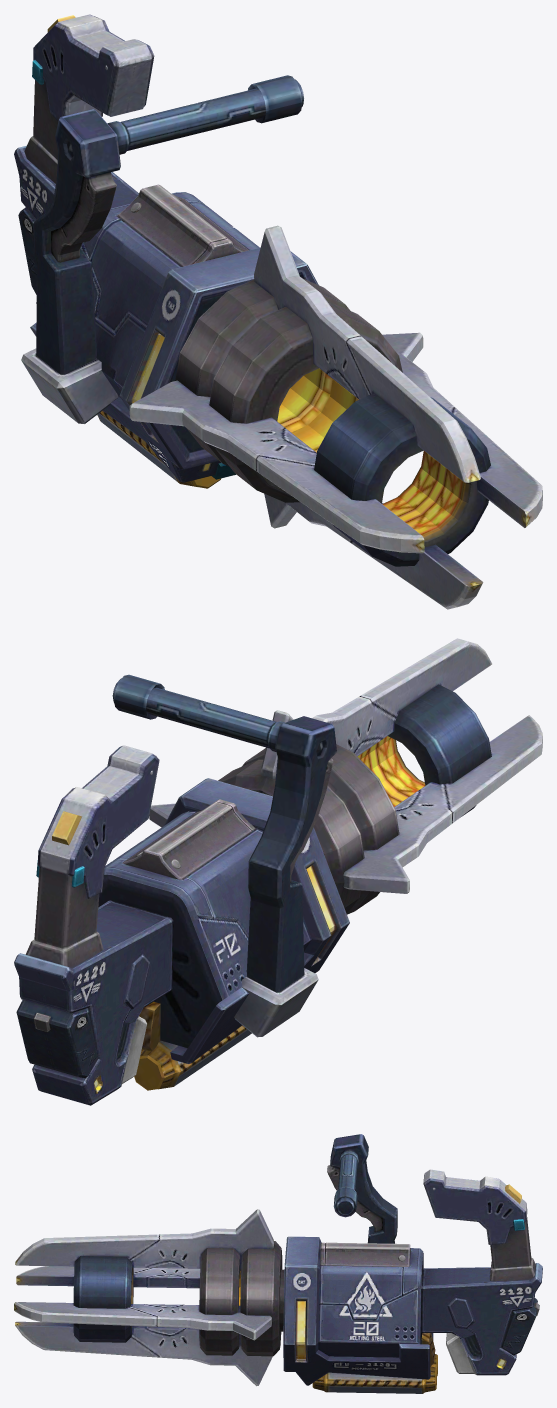
The model's file is chg_laser_machine_gun.glb.
The picture shows the model from 3 angles, top to bottom: view 1: azimuth 30°, elevation 25°; view 2: azimuth 150°, elevation 25°; view 3: azimuth 270°, elevation 25°; orthographic projection. The views are drawn at different scales.
Parts seen in each view (by area): view 1: LaserMchGun_Barrel_2, LaserMchGun_Main_4, LaserMchGun_Trigger_6, LaserMchGun_Handle_5, LaserMchGun_Idk_3; view 2: LaserMchGun_Main_4, LaserMchGun_Barrel_2, LaserMchGun_Trigger_6, LaserMchGun_Handle_5, LaserMchGun_Idk_3; view 3: LaserMchGun_Barrel_2, LaserMchGun_Main_4, LaserMchGun_Handle_5, LaserMchGun_Trigger_6, LaserMchGun_Idk_3.
Boxes of the visible parts, left/top/right/bottom form: LaserMchGun_Barrel_2: left=129, top=225, right=542, bottom=609; LaserMchGun_Main_4: left=14, top=145, right=318, bottom=482; LaserMchGun_Trigger_6: left=21, top=75, right=303, bottom=423; LaserMchGun_Handle_5: left=24, top=14, right=154, bottom=183; LaserMchGun_Idk_3: left=97, top=411, right=221, bottom=488; LaserMchGun_Main_4: left=14, top=778, right=349, bottom=1105; LaserMchGun_Barrel_2: left=149, top=638, right=542, bottom=914; LaserMchGun_Trigger_6: left=112, top=674, right=336, bottom=1037; LaserMchGun_Handle_5: left=25, top=745, right=159, bottom=968; LaserMchGun_Idk_3: left=134, top=1025, right=251, bottom=1090; LaserMchGun_Barrel_2: left=14, top=1209, right=282, bottom=1386; LaserMchGun_Main_4: left=279, top=1236, right=542, bottom=1385; LaserMchGun_Handle_5: left=423, top=1169, right=535, bottom=1281; LaserMchGun_Trigger_6: left=327, top=1134, right=397, bottom=1243; LaserMchGun_Idk_3: left=312, top=1354, right=437, bottom=1393.
Size of the model in its own units: 0.0506 by 0.0633 by 0.1407.
Materials: 5 (5 with a texture image).
